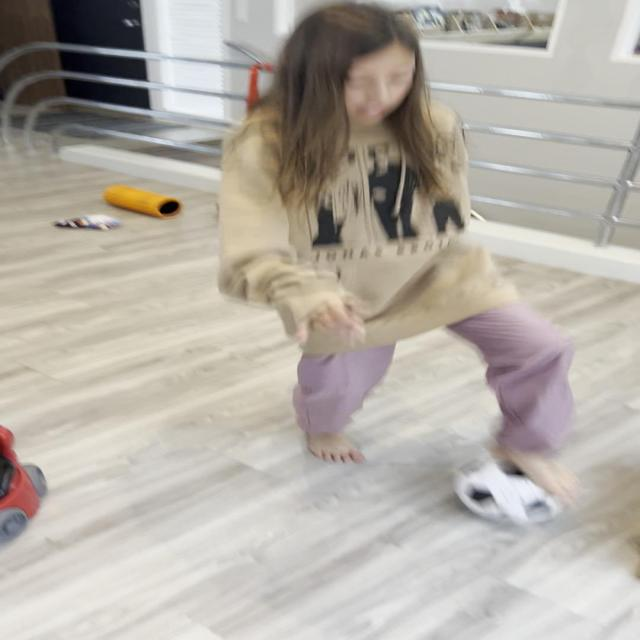Soccer Ball: (451, 452, 574, 522)
